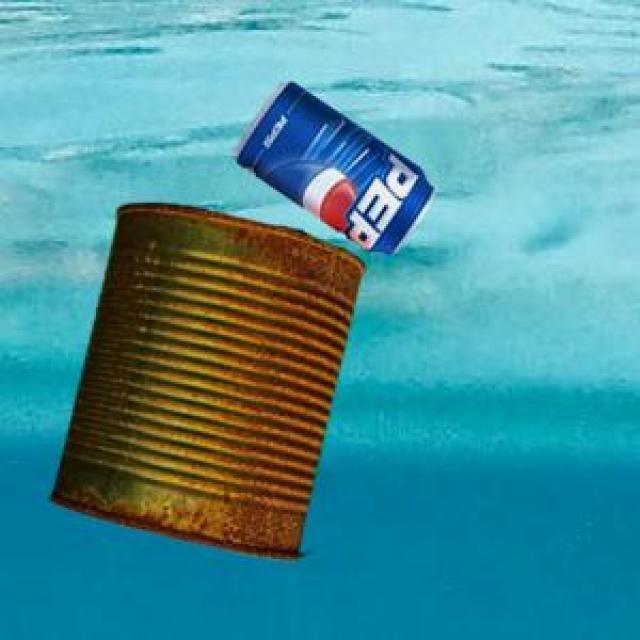Can: (48, 199, 362, 558), (234, 80, 432, 251)
